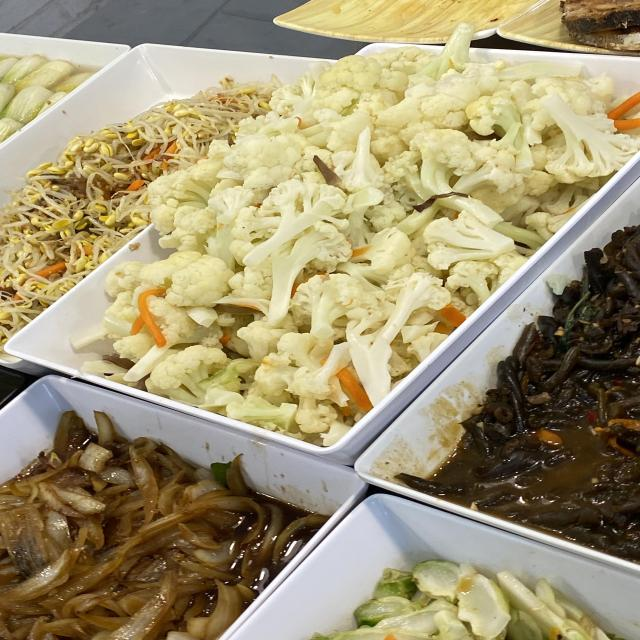cauliflower: (246, 121, 484, 306)
